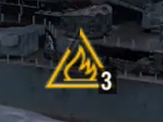3fire: (39, 54, 119, 94)
